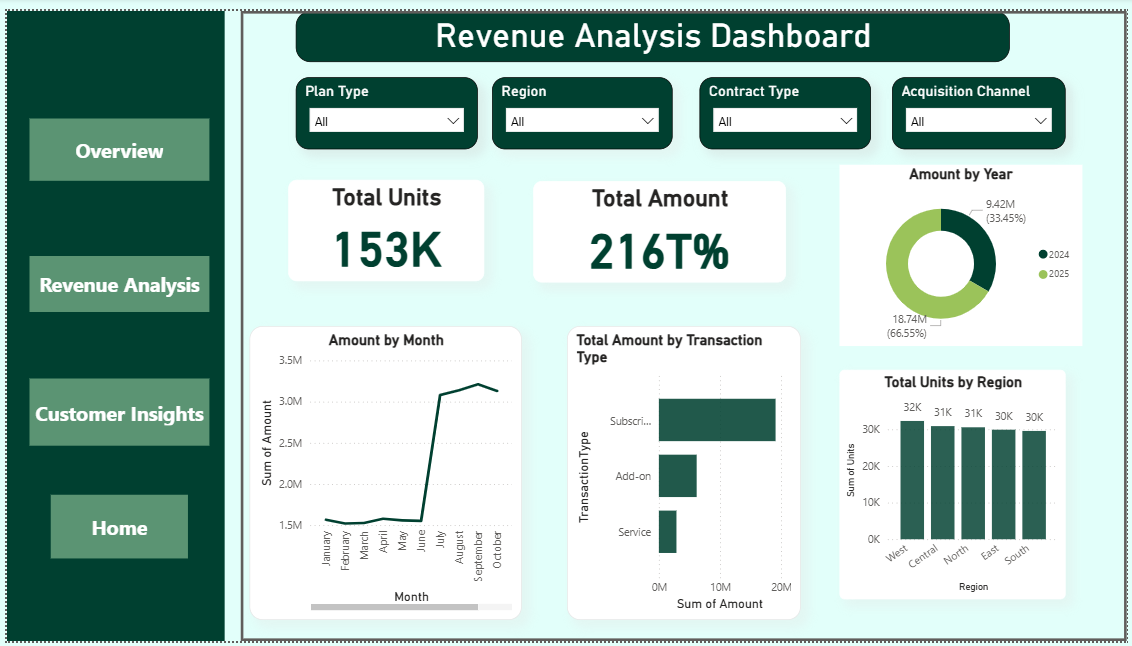

This screenshot's page, from the dashboard's own definition file:
{"tool":"powerbi","page":{"name":"Revenue Analysis","canvas":[1280,720],"ordinal":1},"visuals":[{"type":"textbox","title":"Revenue Analysis Dashboard","box":[330,0,816,58],"z":0},{"type":"slicer","title":"Region","fields":{"Values":["DimCustomer.Region"]},"box":[554,76,206,82],"z":1000},{"type":"slicer","title":"Acquisition Channel","fields":{"Values":["DimCustomer.AcquisitionChannel"]},"box":[1012,76,198,82],"z":2000},{"type":"slicer","title":"Contract Type","fields":{"Values":["DimCustomer.ContractType"]},"box":[792,76,196,82],"z":3000},{"type":"slicer","title":"Plan Type","fields":{"Values":["DimCustomer.Plan"]},"box":[330,76,208,82],"z":4000},{"type":"shape","box":[0,0,248.8,720],"z":5000},{"type":"card","title":"Total Units","fields":{"Values":["Sum(FactTransactions.Units)"]},"box":[321.2,192.5,223.8,116.2],"z":6000},{"type":"card","title":"Total Amount","fields":{"Values":["Sum(FactTransactions.totalamount)"]},"box":[601.2,193.8,288.8,116.2],"z":7000},{"type":"clusteredBarChart","title":"Total Amount by Transaction Type","fields":{"Y":["Sum(FactTransactions.Amount)"],"Category":["FactTransactions.TransactionType"]},"box":[640,360,267.5,336.2],"z":8000},{"type":"donutChart","title":"Amount by Year","fields":{"Category":["FactTransactions.TransactionDate.Variation.Date Hierarchy.Year"],"Y":["Sum(FactTransactions.Amount)"]},"box":[951.2,176.2,277.5,207.5],"z":9000},{"type":"lineStackedColumnComboChart","title":"Total Units by Region","fields":{"Category":["DimCustomer.Region"],"Y":["Sum(FactTransactions.Units)"]},"box":[951.2,410,258.8,262.5],"z":10000},{"type":"lineChart","title":" Amount by Month","fields":{"Category":["FactTransactions.TransactionDate.Variation.Date Hierarchy.Month"],"Y":["Sum(FactTransactions.Amount)"]},"box":[277.5,360,311.2,336.2],"z":11000},{"type":"actionButton","box":[25.7,122.9,205.7,71.4],"z":12000},{"type":"actionButton","box":[25.7,280,205.7,64.3],"z":13000},{"type":"actionButton","box":[25.7,420,205.7,77.1],"z":14000},{"type":"actionButton","box":[267.5,0,1012.5,720],"z":15000},{"type":"actionButton","box":[50,552.9,157.1,72.9],"z":16000}]}

Visuals, with their boxes in screenshot pixels (x1, y1, x2, y2), scaled from the page's 1280x720 canvas onto the 1132x646 screenshot:
"Revenue Analysis Dashboard" textbox: (x1=292, y1=0, x2=1013, y2=52)
"Region" slicer: (x1=490, y1=68, x2=672, y2=142)
"Acquisition Channel" slicer: (x1=895, y1=68, x2=1070, y2=142)
"Contract Type" slicer: (x1=700, y1=68, x2=874, y2=142)
"Plan Type" slicer: (x1=292, y1=68, x2=476, y2=142)
shape: (x1=0, y1=0, x2=220, y2=645)
"Total Units" card: (x1=284, y1=173, x2=482, y2=277)
"Total Amount" card: (x1=532, y1=174, x2=787, y2=278)
"Total Amount by Transaction Type" clusteredBarChart: (x1=566, y1=323, x2=803, y2=625)
"Amount by Year" donutChart: (x1=841, y1=158, x2=1087, y2=344)
"Total Units by Region" lineStackedColumnComboChart: (x1=841, y1=368, x2=1070, y2=603)
" Amount by Month" lineChart: (x1=245, y1=323, x2=521, y2=625)
actionButton: (x1=23, y1=110, x2=205, y2=174)
actionButton: (x1=23, y1=251, x2=205, y2=309)
actionButton: (x1=23, y1=377, x2=205, y2=446)
actionButton: (x1=237, y1=0, x2=1131, y2=645)
actionButton: (x1=44, y1=496, x2=183, y2=561)
